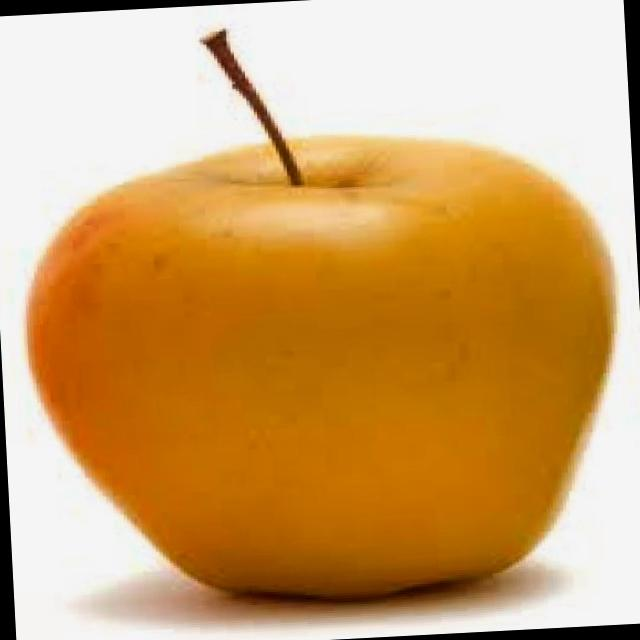Apple: (1, 2, 628, 622)
